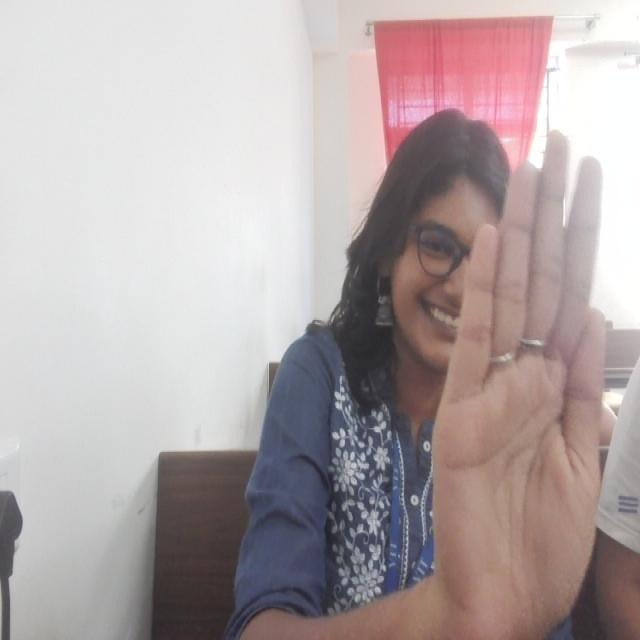hello: (426, 125, 606, 640)
